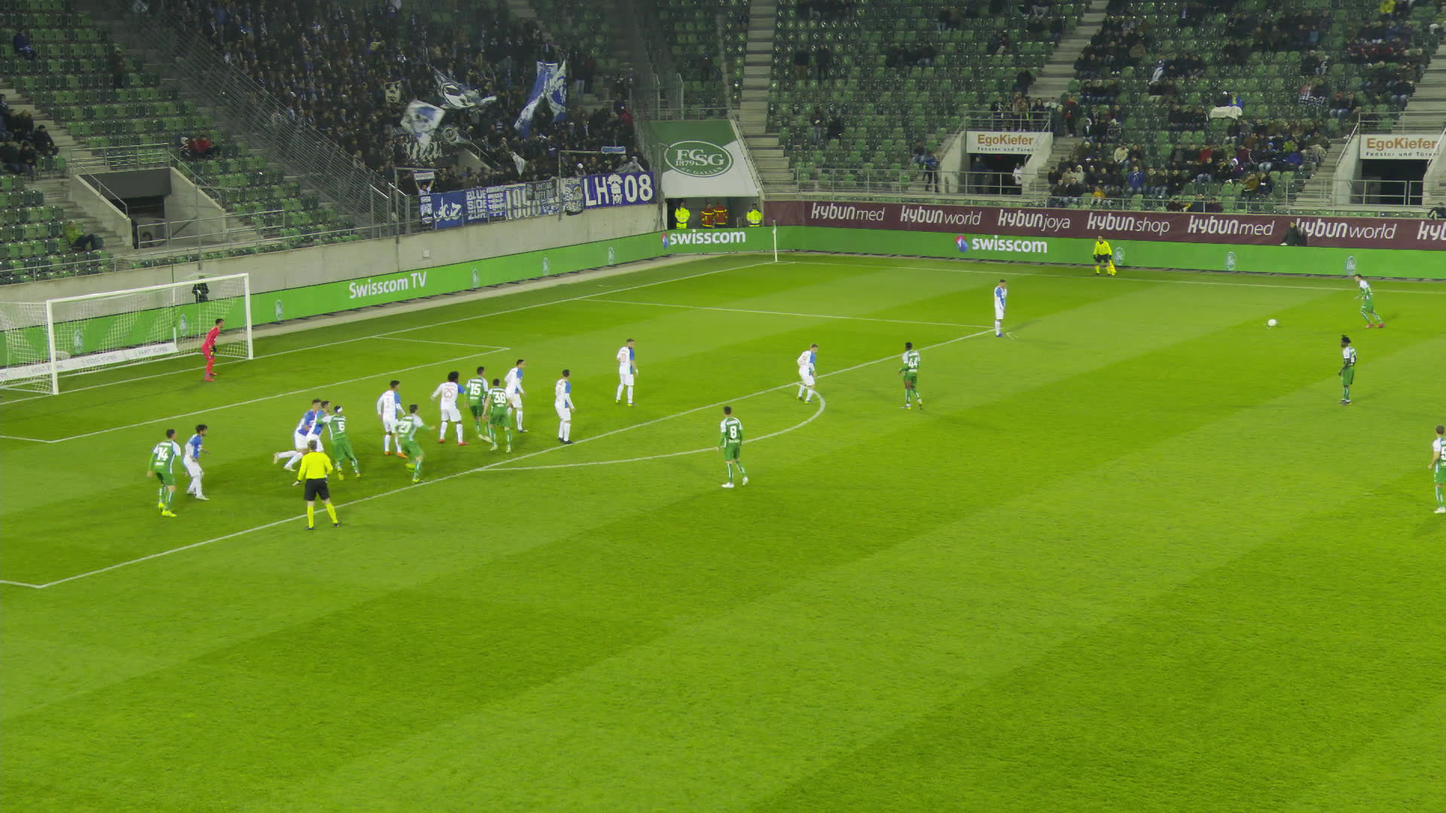ball: (1267, 318, 1275, 325)
player: (380, 401, 433, 480), (316, 405, 361, 480), (277, 400, 322, 472), (424, 369, 467, 444), (148, 428, 184, 516), (285, 401, 330, 470), (458, 367, 491, 446), (717, 406, 749, 487), (377, 380, 410, 457), (481, 378, 511, 452), (182, 425, 209, 498), (505, 358, 529, 432), (898, 342, 923, 408), (615, 337, 639, 405), (1426, 427, 1445, 512), (202, 318, 227, 382), (1352, 273, 1380, 327), (554, 368, 573, 443), (1338, 334, 1356, 403), (797, 342, 817, 403), (993, 279, 1008, 336)
referee: (294, 440, 338, 529), (1092, 233, 1111, 276)
